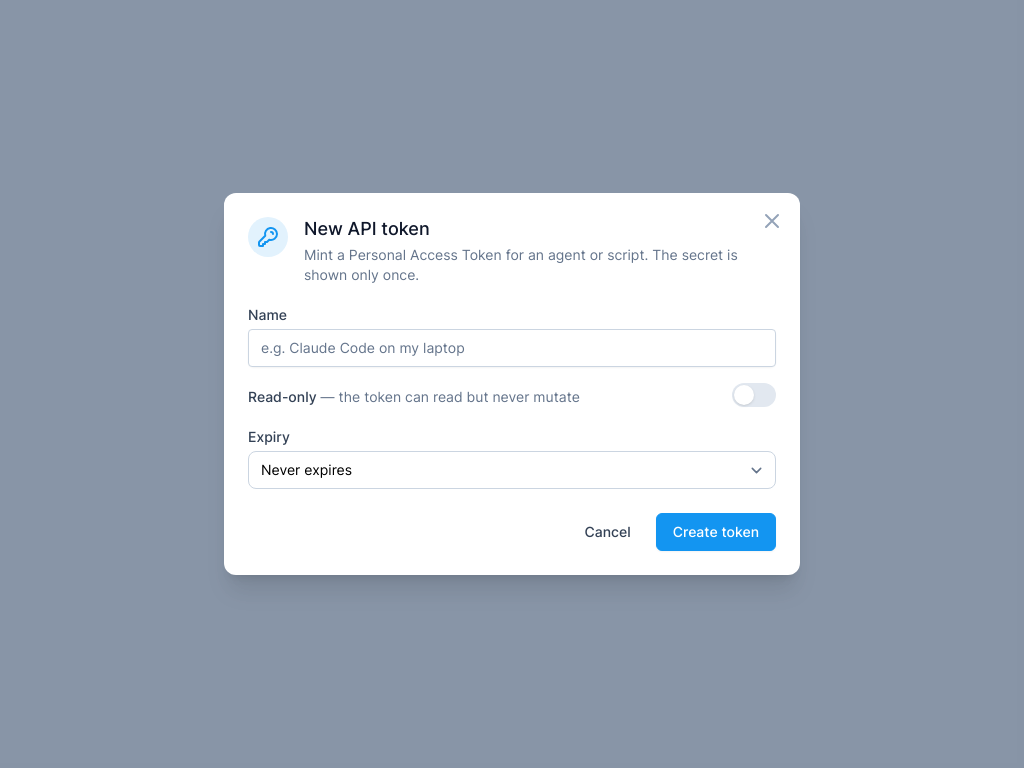
Scenario: TokenCreateModal › shows the plaintext exactly once after creation
Expected: the text "orcha_pat_supersecretplaintextvalue123456" is not shown
In the field labelled "Name": [512, 348] box [248, 329, 776, 367], type "CI bot"
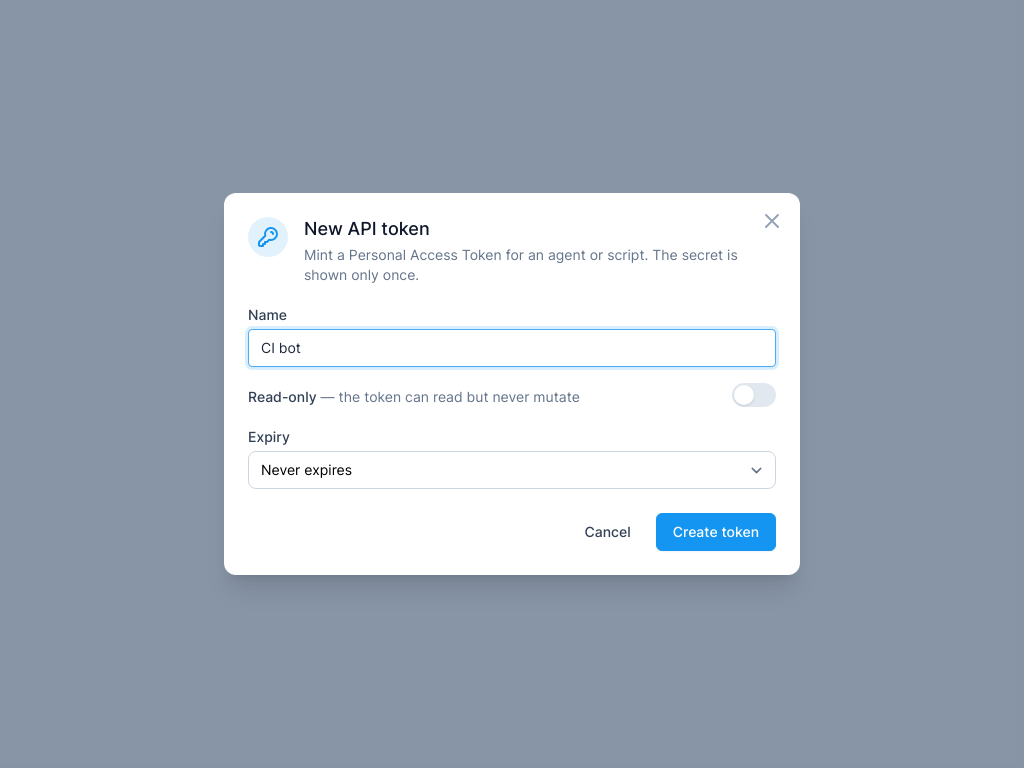
Click the button "Create token": [716, 532] box [656, 513, 776, 551]
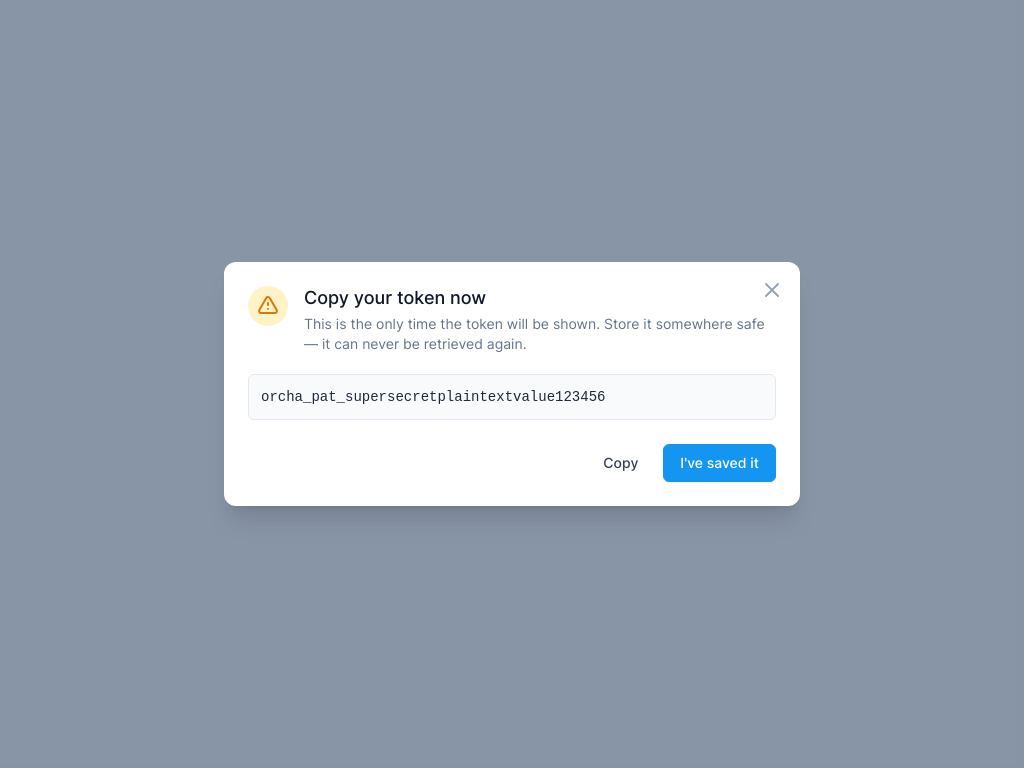
Expected: the text "orcha_pat_supersecretplaintextvalue123456" is shown, [248, 374, 776, 420]
